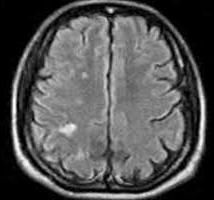Normal_Brain: (1, 1, 214, 200)
